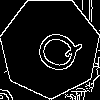Q: (25, 22, 85, 79)
